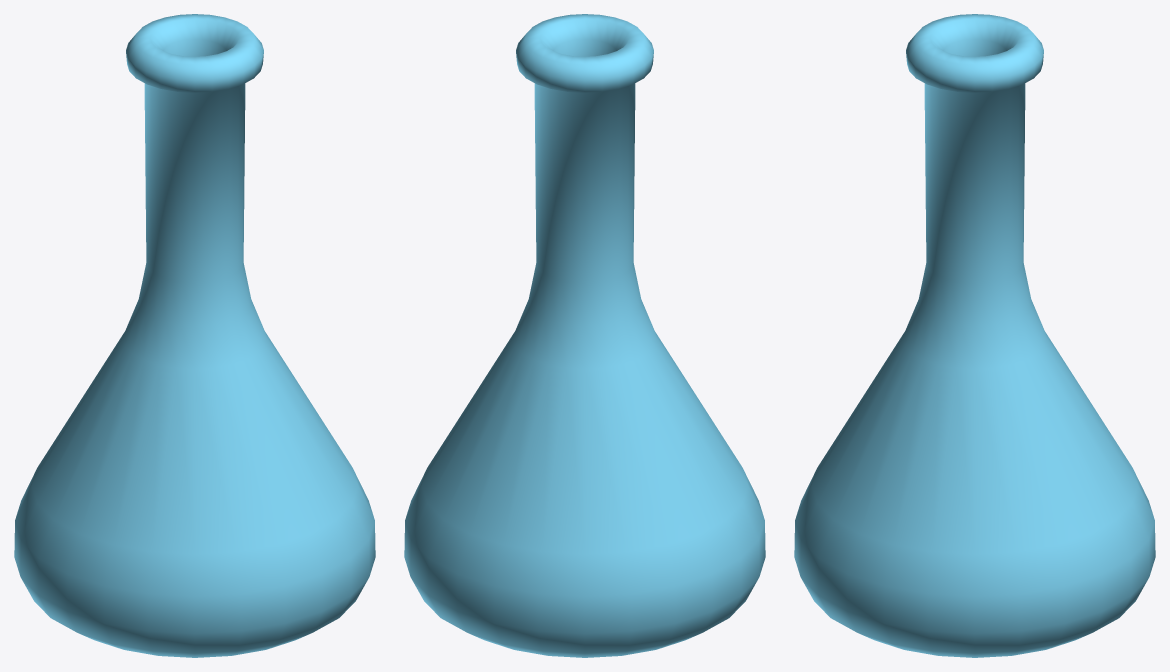
Rendered from Flask, Erlenmeyer, Long Neck.fbx.
The picture shows the model from 3 angles, left to right: view 1: azimuth 30°, elevation 25°; view 2: azimuth 150°, elevation 25°; view 3: azimuth 270°, elevation 25°; orthographic projection.
Parts seen in each view (by area): view 1: Flask, Erlenmeyer, Long Neck_LOD0; view 2: Flask, Erlenmeyer, Long Neck_LOD0; view 3: Flask, Erlenmeyer, Long Neck_LOD0.
Boxes of the visible parts, box(x1,y1,x2,y2) form: Flask, Erlenmeyer, Long Neck_LOD0: box(14, 14, 375, 657); Flask, Erlenmeyer, Long Neck_LOD0: box(404, 14, 765, 657); Flask, Erlenmeyer, Long Neck_LOD0: box(794, 14, 1155, 657).
Size of what is drawn, in the model's own units: 0.5726 by 0.9959 by 0.5726.
